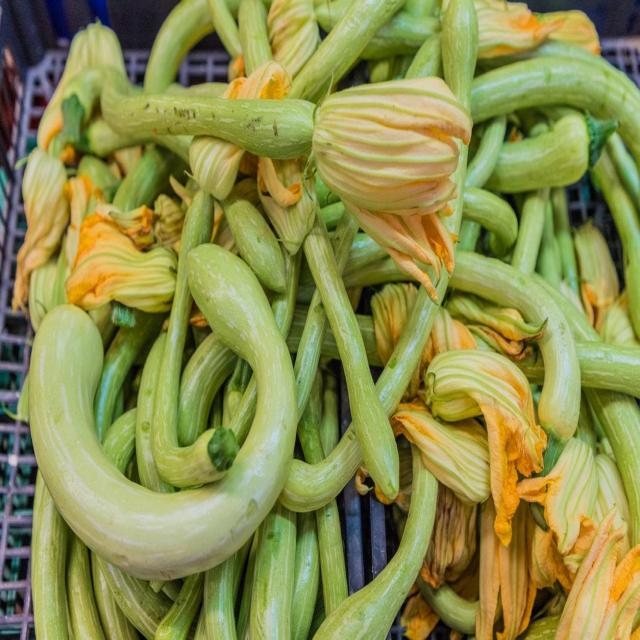Zucchini: (101, 90, 313, 160)
